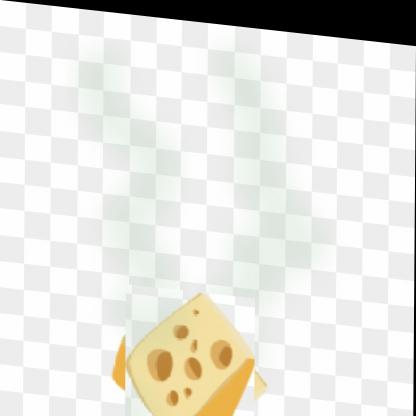cheese: (118, 285, 264, 415)
